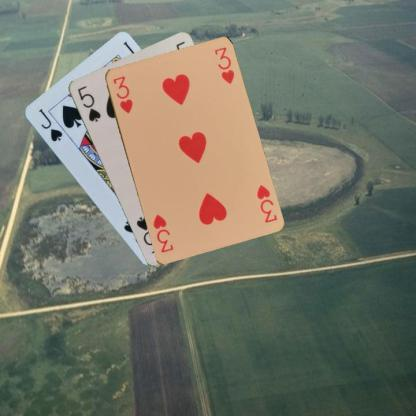3h: (254, 182, 278, 224), (110, 73, 134, 114)
5s: (75, 83, 102, 123)
Js: (35, 105, 64, 143)
